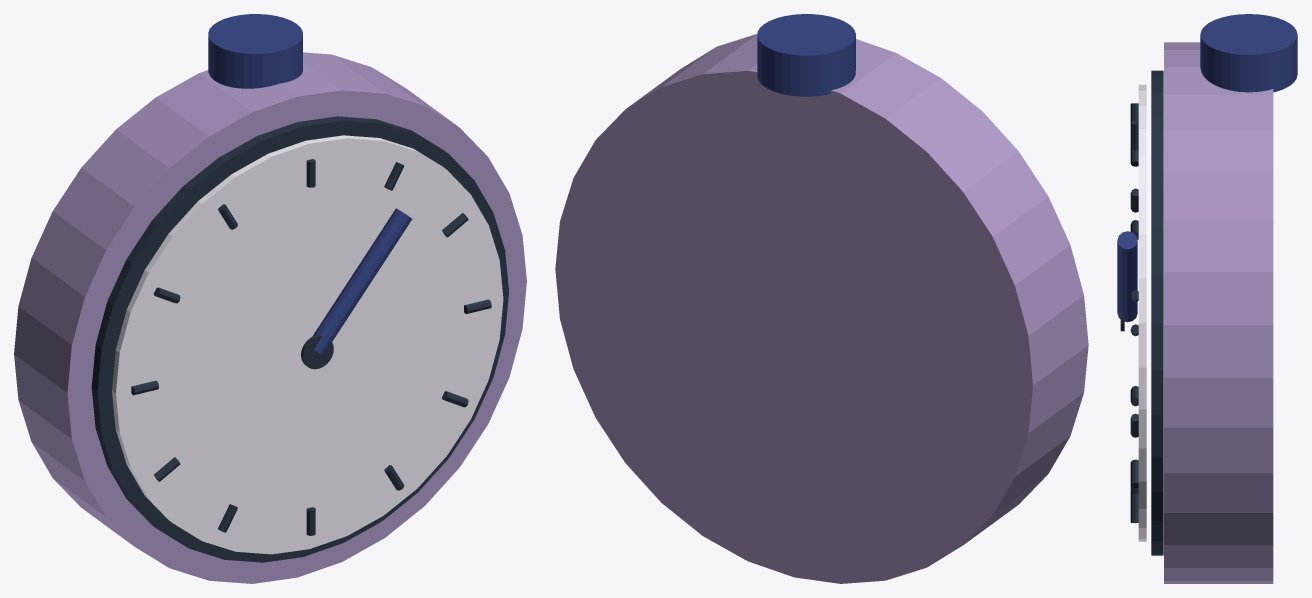
Rendered from timer.glb.
3 renders of one model, left to right at view 1: azimuth 30°, elevation 25°; view 2: azimuth 150°, elevation 25°; view 3: azimuth 270°, elevation 25°, orthographic. The views are drawn at different scales.
Parts seen in each view (by area): view 1: dial, housing, bezel, knob, timer hand0, hub; view 2: housing, knob; view 3: housing, knob, bezel, dial, timer hand0, tick 0, tick 5, tick 4.
Part boxes in pixels (bbox=[...]): dial: bbox=[112, 135, 503, 554]; housing: bbox=[14, 52, 526, 583]; bezel: bbox=[91, 116, 508, 562]; knob: bbox=[208, 14, 302, 88]; timer hand0: bbox=[312, 208, 411, 355]; hub: bbox=[301, 335, 333, 369]; housing: bbox=[555, 34, 1088, 583]; knob: bbox=[757, 14, 855, 96]; housing: bbox=[1164, 42, 1273, 583]; knob: bbox=[1200, 14, 1297, 92]; bezel: bbox=[1151, 70, 1163, 555]; dial: bbox=[1138, 84, 1146, 541]; timer hand0: bbox=[1117, 231, 1137, 322]; tick 0: bbox=[1130, 120, 1138, 150]; tick 5: bbox=[1130, 494, 1138, 523]; tick 4: bbox=[1130, 459, 1138, 488].
Size of the model in its own units: 1.34 by 1.43 by 0.445.
